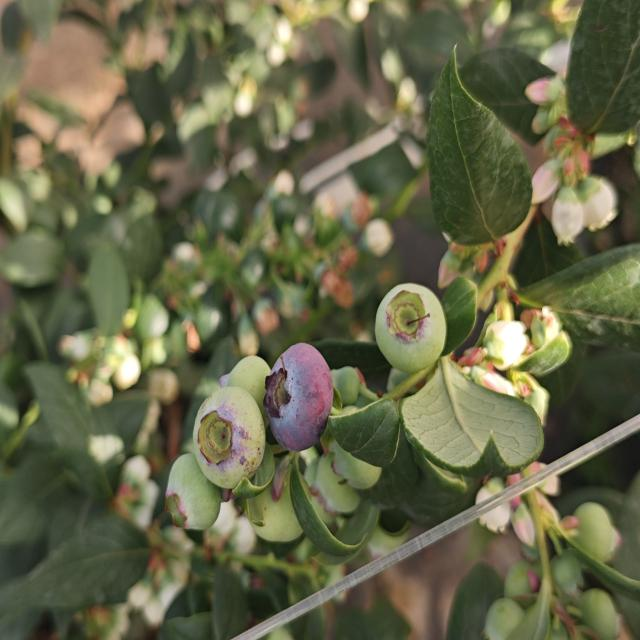ripe: (266, 347, 335, 446)
